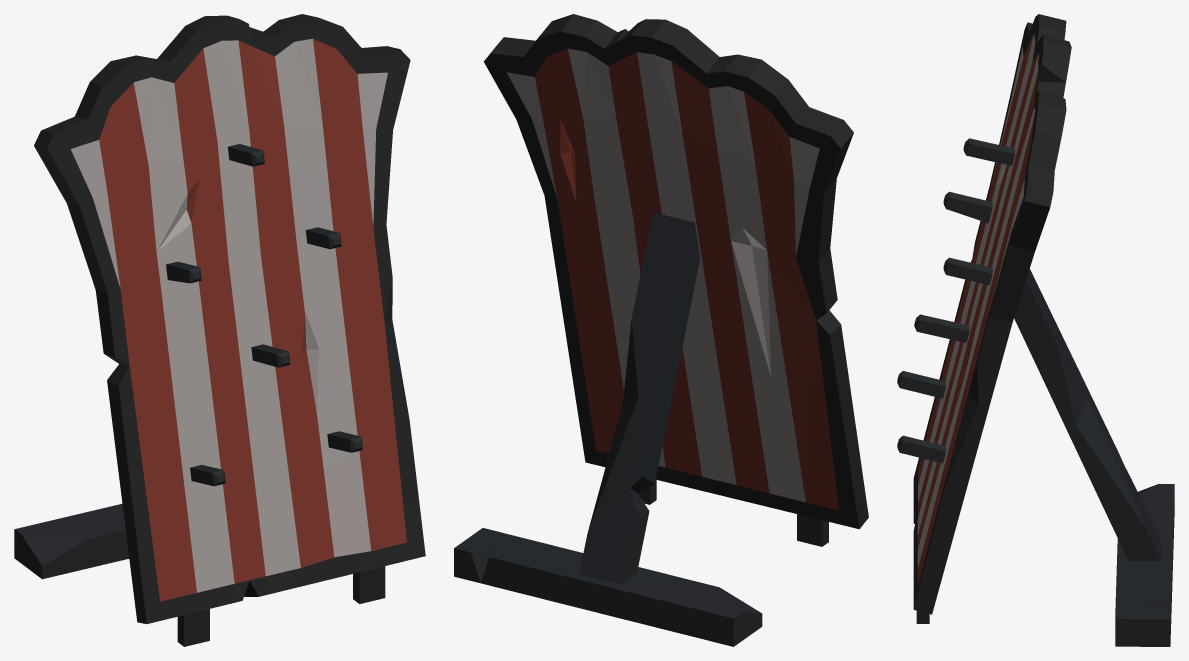
The model's file is SM_Prop_Ring_Toss_01.glb.
3 renders of one model, left to right at view 1: azimuth 30°, elevation 25°; view 2: azimuth 150°, elevation 25°; view 3: azimuth 270°, elevation 25°, orthographic. The views are drawn at different scales.
Parts seen in each view (by area): view 1: SM_Prop_Ring_Toss_01; view 2: SM_Prop_Ring_Toss_01; view 3: SM_Prop_Ring_Toss_01.
Part boxes in pixels (x1,y1,x2,y2): SM_Prop_Ring_Toss_01: [14, 14, 425, 646]; SM_Prop_Ring_Toss_01: [454, 14, 868, 646]; SM_Prop_Ring_Toss_01: [897, 14, 1174, 646].
Bounding box in the file's own units: 128 × 187 × 87.65.
Materials: 1 (1 with a texture image).
